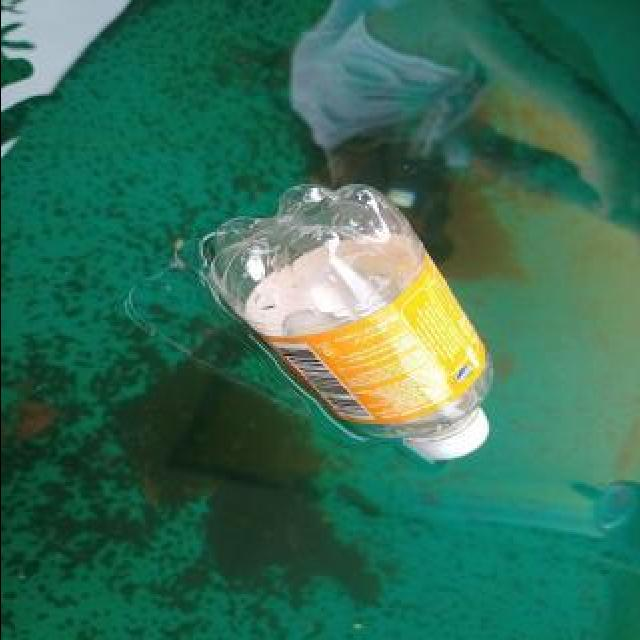Bottle: (190, 178, 506, 476)
